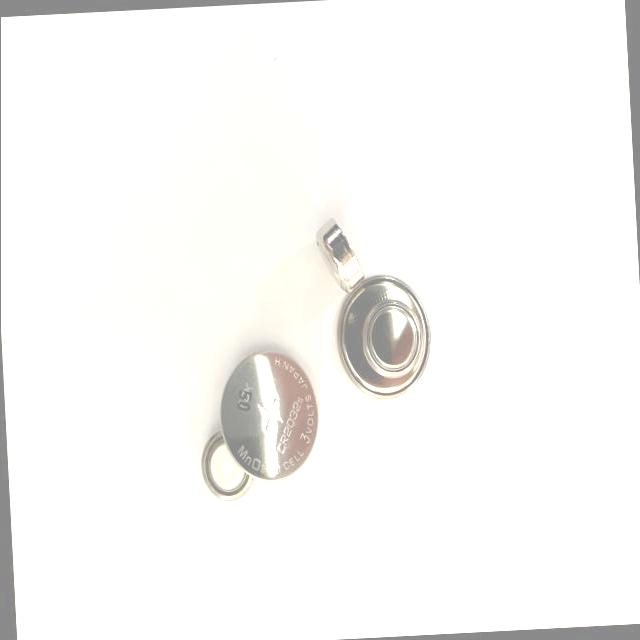COIN: (215, 348, 322, 483), (332, 269, 434, 404), (356, 297, 424, 380), (197, 426, 254, 506), (312, 215, 364, 297)
